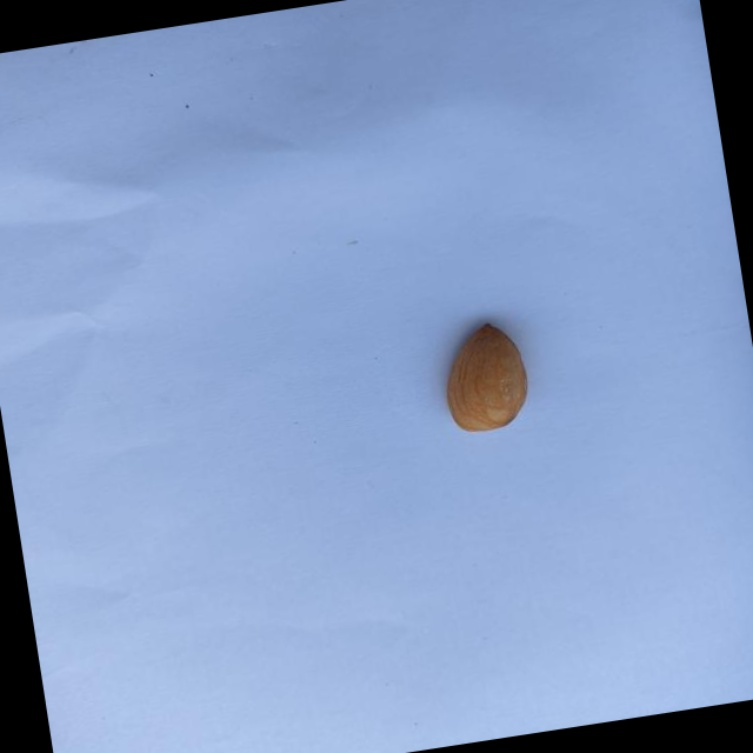grade2: (428, 315, 538, 441)
